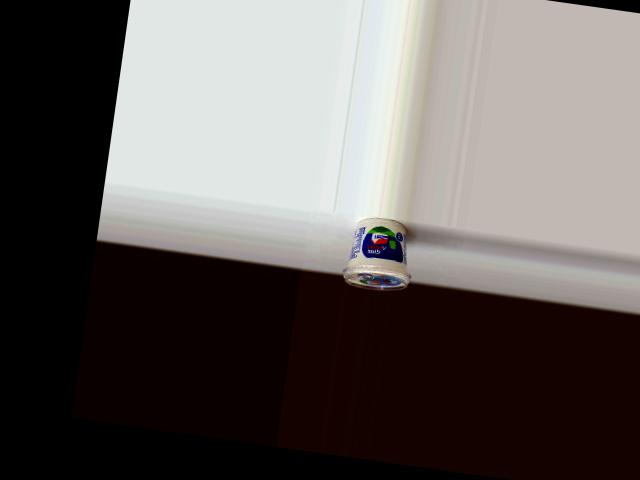cotage: (339, 213, 417, 294)
